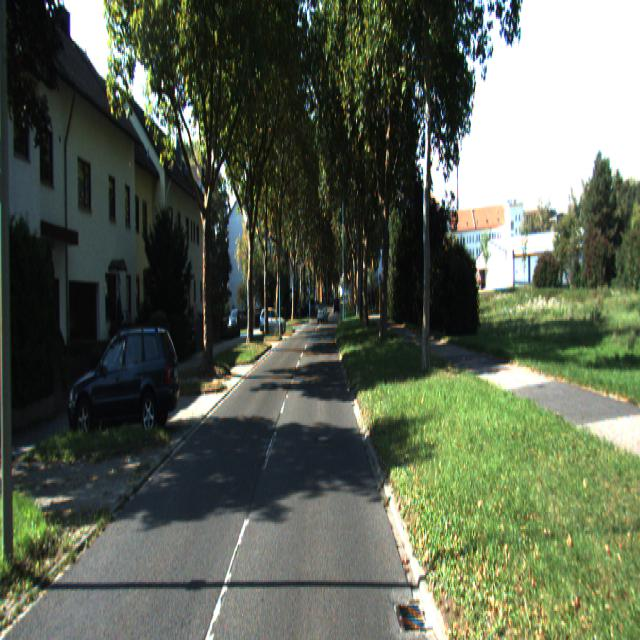Car: (67, 319, 183, 440), (258, 304, 287, 331)
